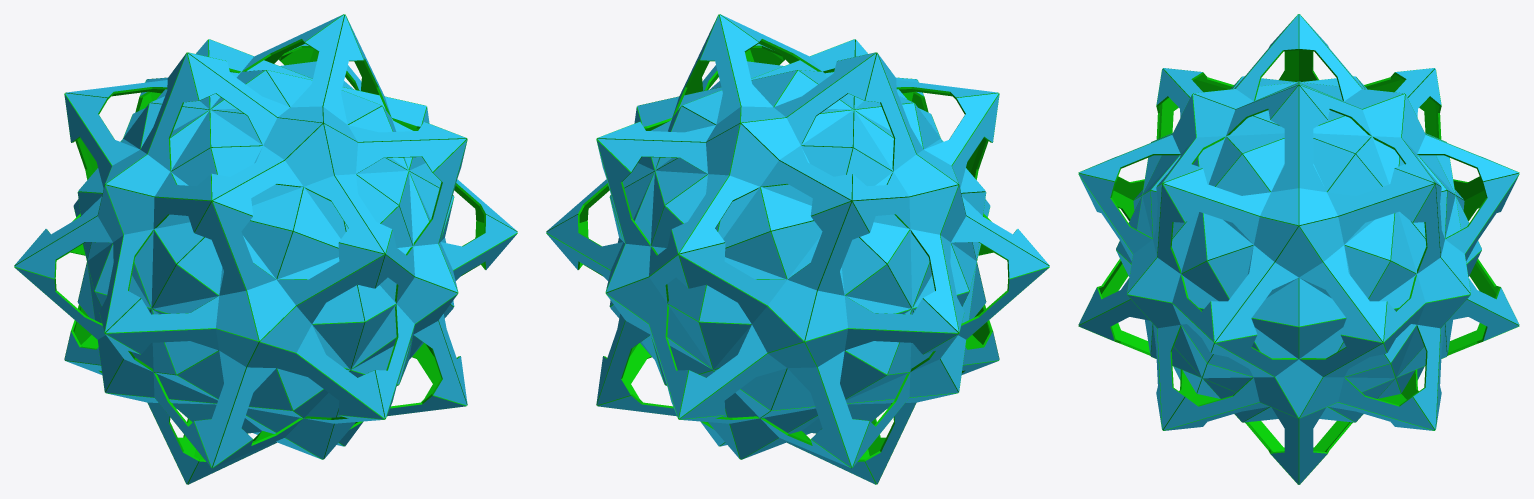
File: MedialIcosacronicHexecontahedronS.glb
The picture shows the model from 3 angles, left to right: view 1: azimuth 30°, elevation 25°; view 2: azimuth 150°, elevation 25°; view 3: azimuth 270°, elevation 25°; orthographic projection. The views are drawn at different scales.
Visible parts, largest first — view 1: root; view 2: root; view 3: root.
Boxes of the visible parts, x1,y1,x2,y2 form: root: (14,14,517,484); root: (546,14,1049,484); root: (1078,14,1519,484).
Bounding box in the file's own units: 10.38 × 10.38 × 10.38.
